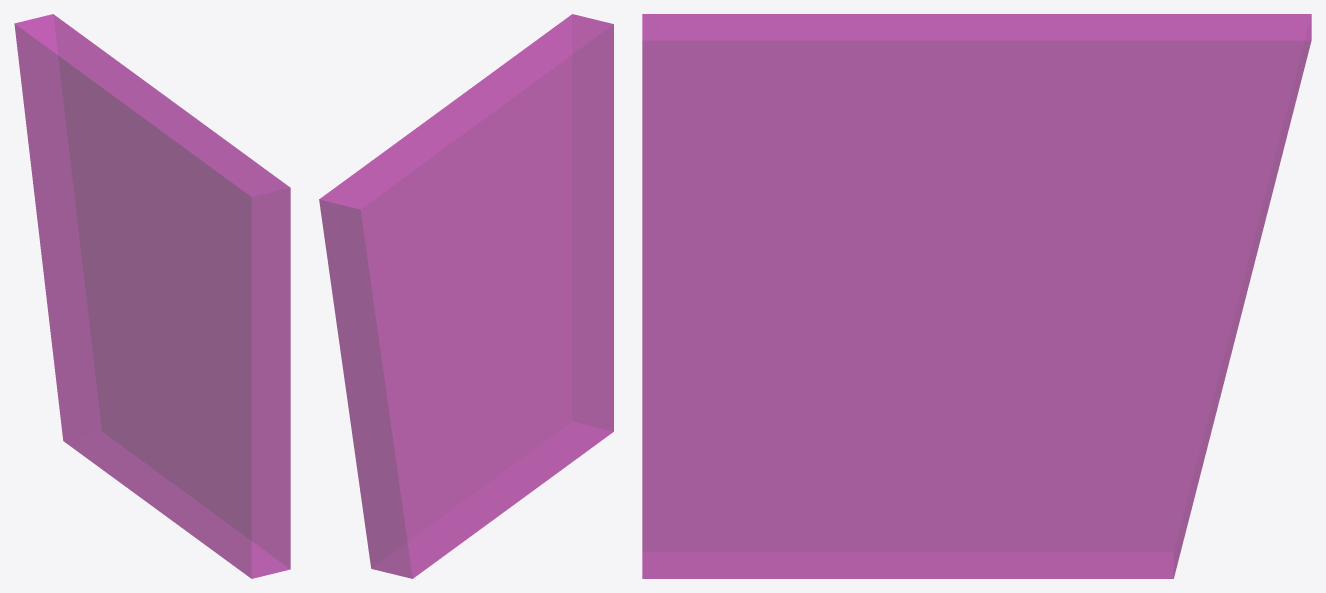
File: SM_Veh_Carnival_Train_Door_L_01_Collision.fbx
3 views of the same model, side by side, from view 1: azimuth 30°, elevation 25°; view 2: azimuth 150°, elevation 25°; view 3: azimuth 270°, elevation 25° (orthographic). The views are drawn at different scales.
Parts seen in each view (by area): view 1: SM_Veh_Carnival_Train_Door_L_01_Collision; view 2: SM_Veh_Carnival_Train_Door_L_01_Collision; view 3: SM_Veh_Carnival_Train_Door_L_01_Collision.
Boxes of the visible parts, left/top/right/bottom form: SM_Veh_Carnival_Train_Door_L_01_Collision: left=14, top=14, right=290, bottom=578; SM_Veh_Carnival_Train_Door_L_01_Collision: left=319, top=14, right=613, bottom=578; SM_Veh_Carnival_Train_Door_L_01_Collision: left=642, top=14, right=1311, bottom=578.
Bounding box in the file's own units: 5.68 × 53.27 × 60.01.
